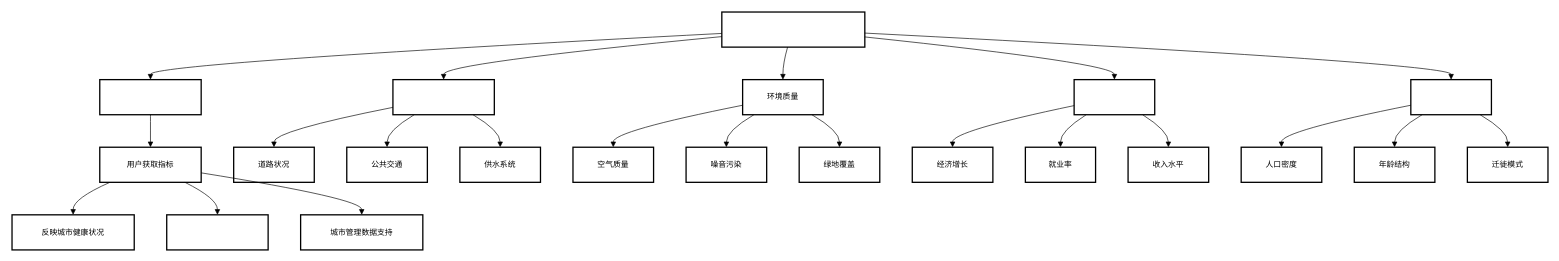
Image size: 1559x261. Some labels were removed from this diagram. Here are the shapes that lost their labels. From the top down, the centre of each, then its label:
point (793, 29): 城市体征指标查询功能
point (150, 97): 全面监测平台
point (443, 97): 城市基础设施
point (1114, 97): 社会经济
point (1451, 97): 人口分布
point (217, 232): 支持政策制定
